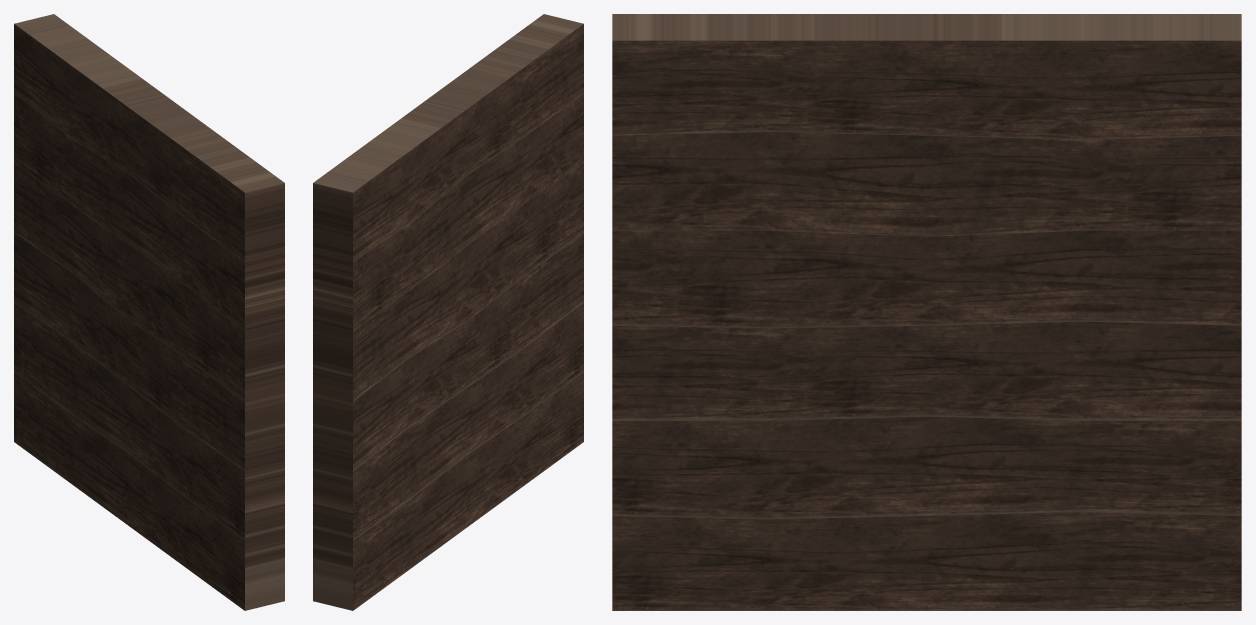
Rendered from WoodWall.fbx.
The picture shows the model from 3 angles, left to right: view 1: azimuth 30°, elevation 25°; view 2: azimuth 150°, elevation 25°; view 3: azimuth 270°, elevation 25°; orthographic projection. The views are drawn at different scales.
Parts seen in each view (by area): view 1: Cube.013; view 2: Cube.013; view 3: Cube.013.
Part boxes in pixels (box(x1,y1,x2,y2)): Cube.013: box(14, 14, 284, 610); Cube.013: box(313, 14, 583, 610); Cube.013: box(612, 14, 1241, 610).
Bounding box in the file's own units: 0.5 × 5 × 5.
